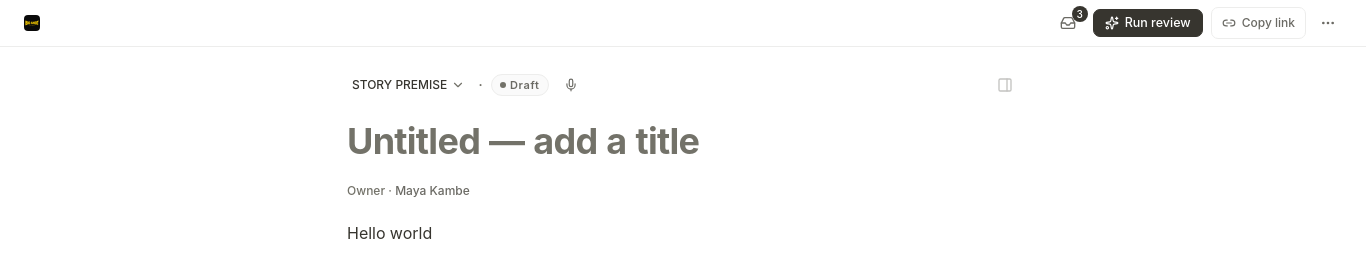
Scenario: DocumentPage voice dictation › toggles recording state and shows the Listening indicator
Click the button named "start voice dictation": point(570, 85) [556,71,584,99]
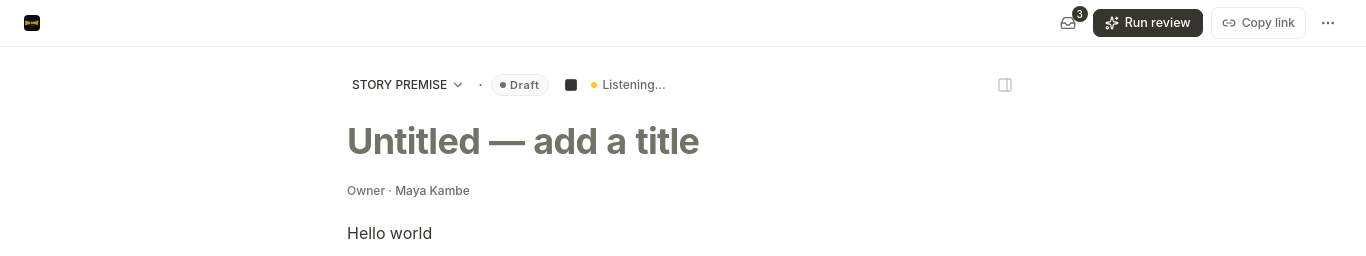
Result: the button named "stop voice dictation" is pressed
Click the button named "stop voice dictation": point(570, 85) [556,71,584,99]
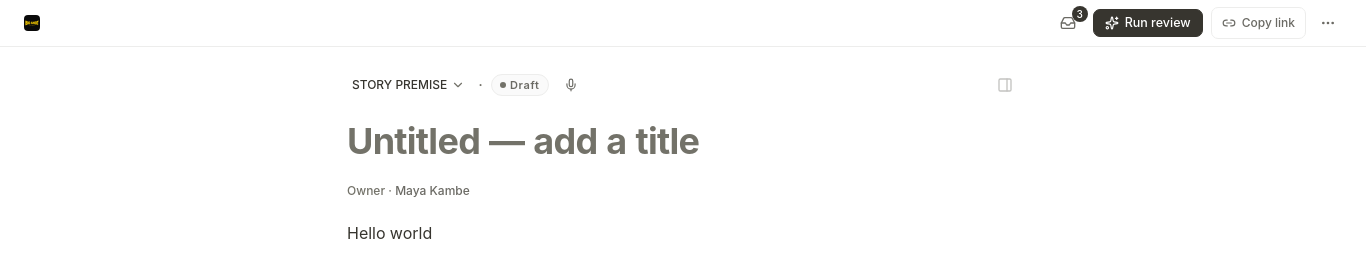
Result: the button named "start voice dictation" is shown at [556,71,584,99]
